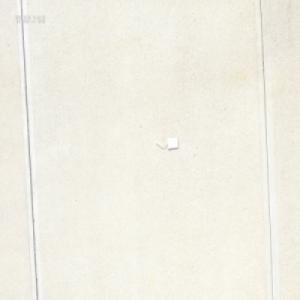LuggageTag: (154, 135, 179, 152)
